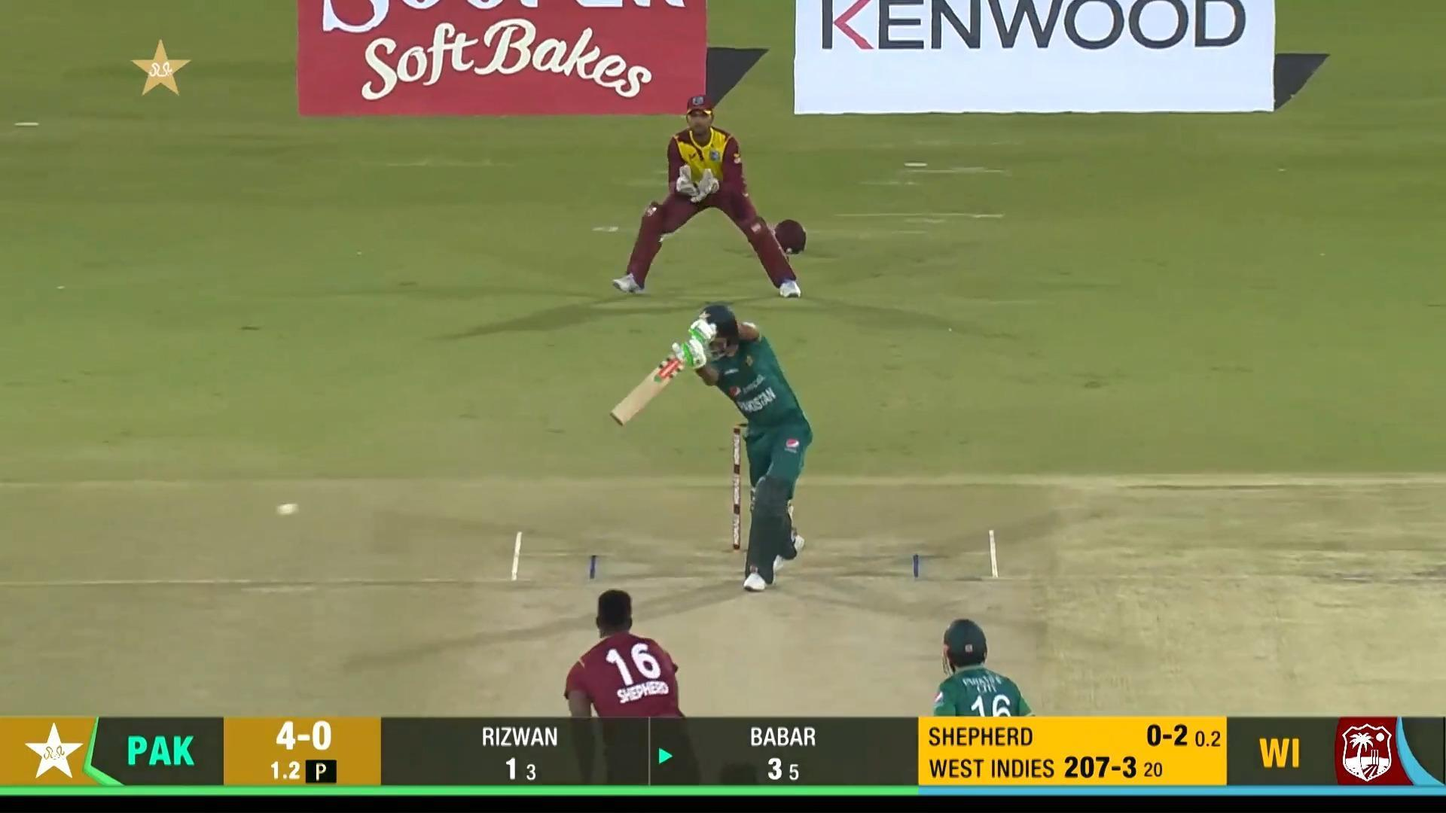BM 1: (609, 304, 813, 592)
BO: (564, 588, 707, 813)
